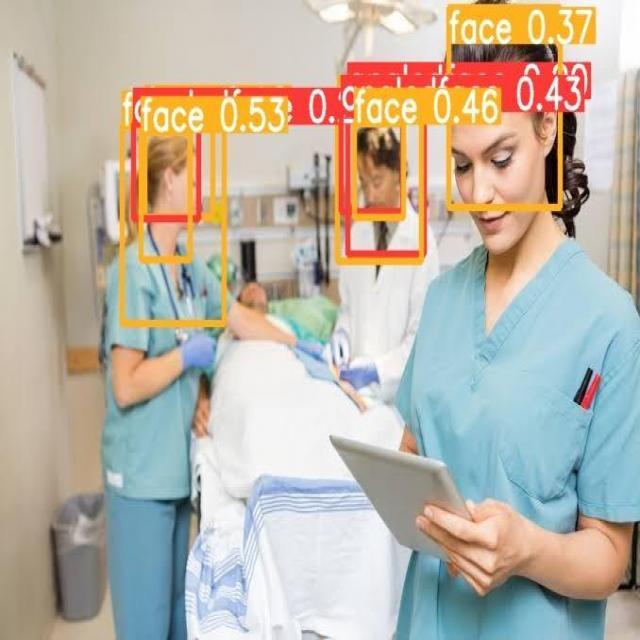Face: (448, 8, 560, 206), (122, 126, 224, 323), (337, 110, 421, 260), (347, 98, 424, 254), (144, 120, 212, 217), (140, 132, 190, 260), (340, 110, 402, 211), (133, 123, 198, 218), (354, 123, 403, 217)
